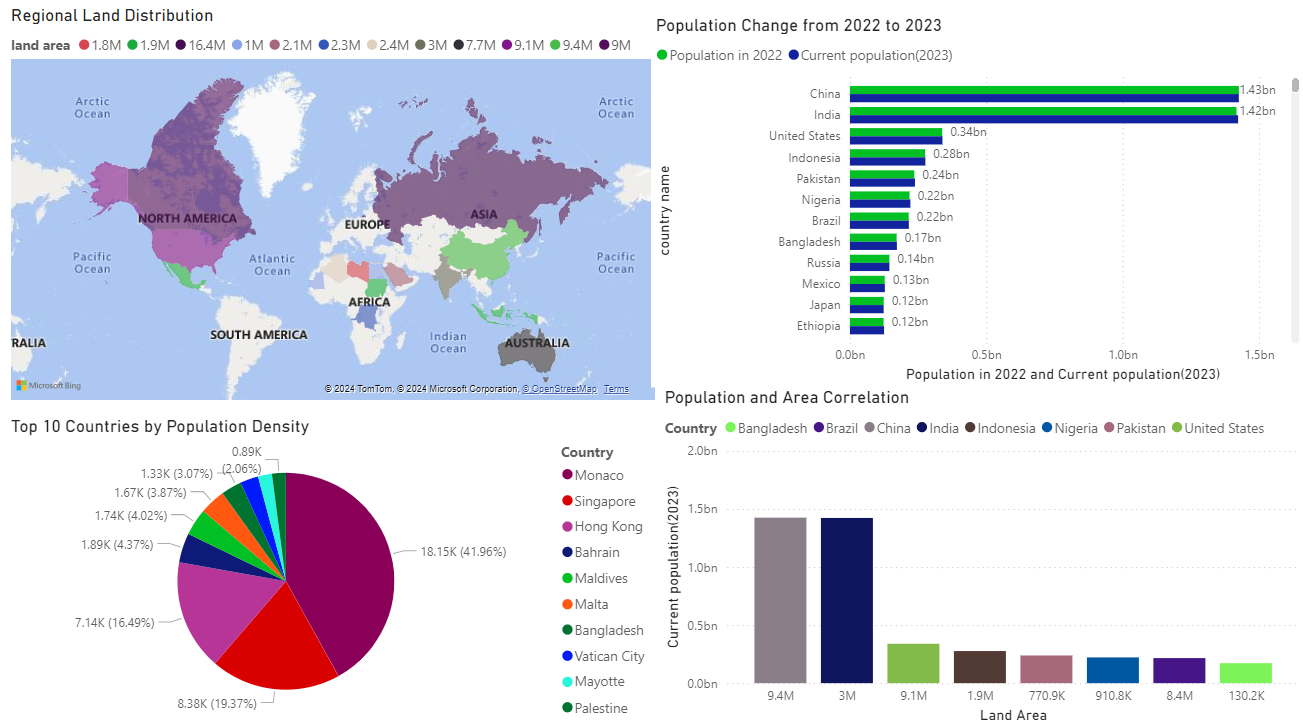

The page's visual inventory and layout, read from the dashboard file:
{"tool":"powerbi","page":{"name":"Page 2","canvas":[1280,720],"ordinal":1},"visuals":[{"type":"filledMap","title":"Regional Land Distribution","fields":{"Category":["Sheet1.country name"],"Series":["Sheet1.land area"]},"box":[9.6,0,639.5,404.8],"z":0},{"type":"clusteredBarChart","title":" Population Change from 2022 to 2023","fields":{"Category":["Sheet1.country name"],"Y":["Sum(Sheet1.population 2022)","Sum(Sheet1.current population)"]},"box":[640.8,0,639.5,387],"z":1000},{"type":"pieChart","title":"Top 10 Countries by Population Density","fields":{"Category":["Sheet1.country name"],"Y":["Sum(Sheet1.density)"]},"box":[10,415,639,305],"z":2000},{"type":"lineStackedColumnComboChart","title":"Population and Area Correlation","fields":{"Category":["Sheet1.land area"],"Y":["Sum(Sheet1.current population)"],"Series":["Sheet1.country name"]},"box":[649.1,387,631.2,333.4],"z":3000}]}

Visuals, with their boxes in screenshot pixels (x1, y1, x2, y2), scaled from the page's 1280x720 canvas onto the 1303x726 screenshot:
"Regional Land Distribution" filledMap: x1=10, y1=0, x2=661, y2=408
" Population Change from 2022 to 2023" clusteredBarChart: x1=652, y1=0, x2=1302, y2=390
"Top 10 Countries by Population Density" pieChart: x1=10, y1=418, x2=661, y2=725
"Population and Area Correlation" lineStackedColumnComboChart: x1=661, y1=390, x2=1302, y2=725
